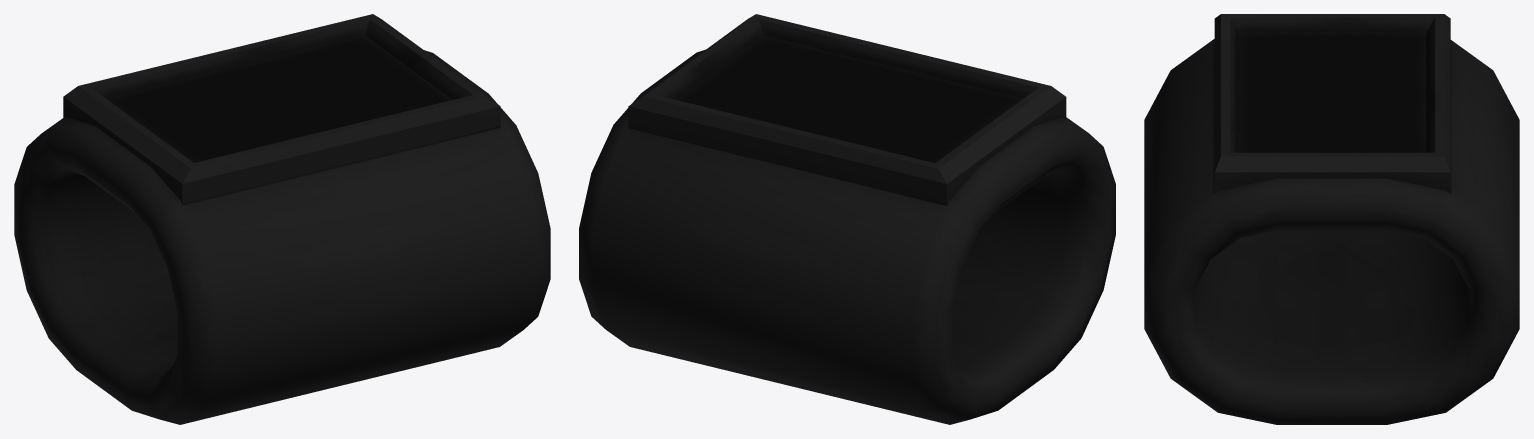
The model's file is armband.obj.
3 renders of one model, left to right at view 1: azimuth 30°, elevation 25°; view 2: azimuth 150°, elevation 25°; view 3: azimuth 270°, elevation 25°, orthographic.
Visible parts, largest first — view 1: armband_Plane.001; view 2: armband_Plane.001; view 3: armband_Plane.001.
Part boxes in pixels (x1,y1,x2,y2): armband_Plane.001: (14, 14, 550, 424); armband_Plane.001: (579, 14, 1115, 424); armband_Plane.001: (1144, 14, 1519, 424).
Bounding box in the file's own units: 218 × 151 × 196.
1 material, 1 textured.
